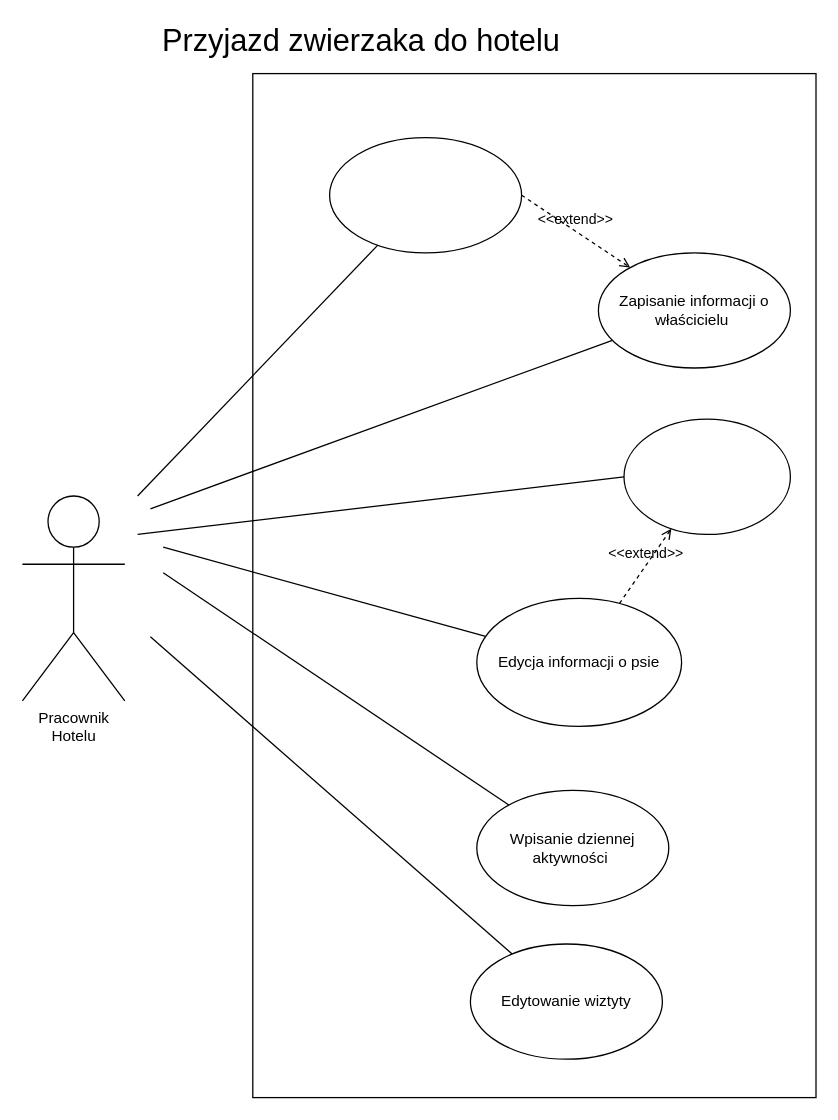
This 838x1120 diagram has some shape labels left out. Here are the shapes that lost their labels. From the top down, the box of each, then its label:
(328, 136, 522, 253): Edycja informacji o właścicielu
(623, 418, 790, 534): Zapisanie informacji o zwierzaku
